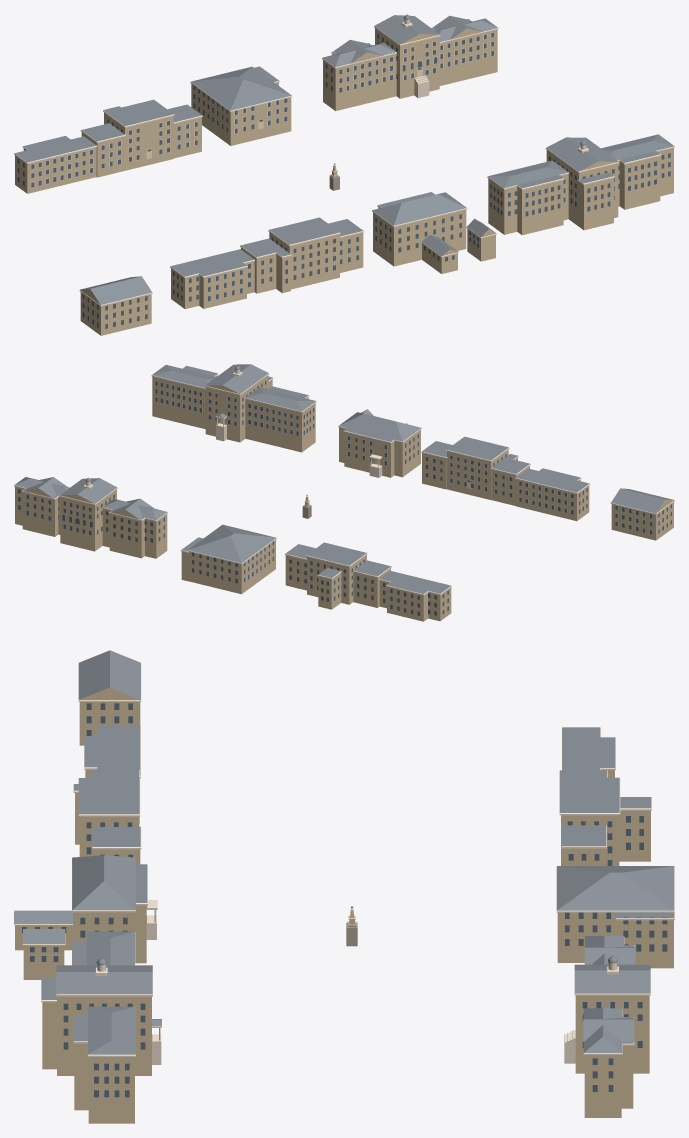
Rendered from cola-usc-horseshoe.glb.
The picture shows the model from 3 angles, top to bottom: view 1: azimuth 30°, elevation 25°; view 2: azimuth 150°, elevation 25°; view 3: azimuth 270°, elevation 25°; orthographic projection. The views are drawn at different scales.
Parts seen in each view (by area): view 1: The Horseshoe, University of South Carolina; view 2: The Horseshoe, University of South Carolina; view 3: The Horseshoe, University of South Carolina.
Part boxes in pixels (x1,y1,x2,y2): The Horseshoe, University of South Carolina: (14, 14, 674, 335); The Horseshoe, University of South Carolina: (14, 364, 674, 621); The Horseshoe, University of South Carolina: (14, 650, 674, 1123).
Bounding box in the file's own units: 227 × 26.6 × 153.
